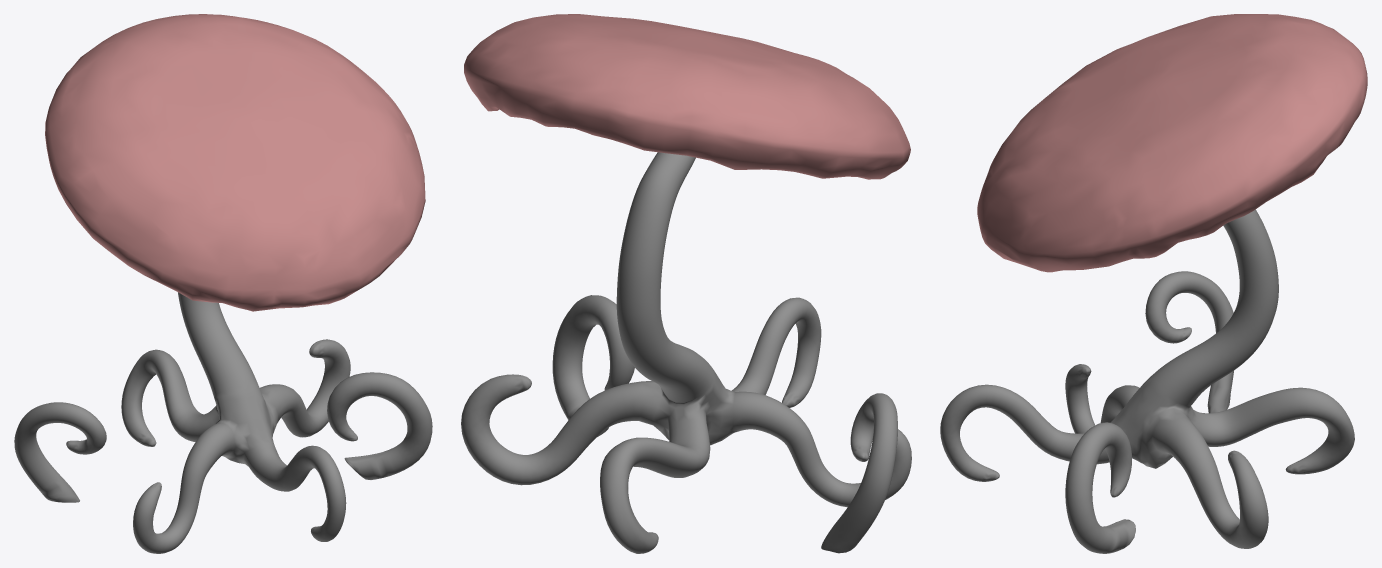
File: mushroom_low.fbx
3 renders of one model, left to right at view 1: azimuth 30°, elevation 25°; view 2: azimuth 150°, elevation 25°; view 3: azimuth 270°, elevation 25°, orthographic. The views are drawn at different scales.
Visible parts, largest first — view 1: StemLOWDONE1; view 2: StemLOWDONE1; view 3: StemLOWDONE1.
Boxes of the visible parts, x1,y1,x2,y2 form: StemLOWDONE1: (14,14,432,553); StemLOWDONE1: (461,14,911,553); StemLOWDONE1: (940,14,1367,553).
Size of the model in its own units: 32.97 by 37.1 by 31.19.
